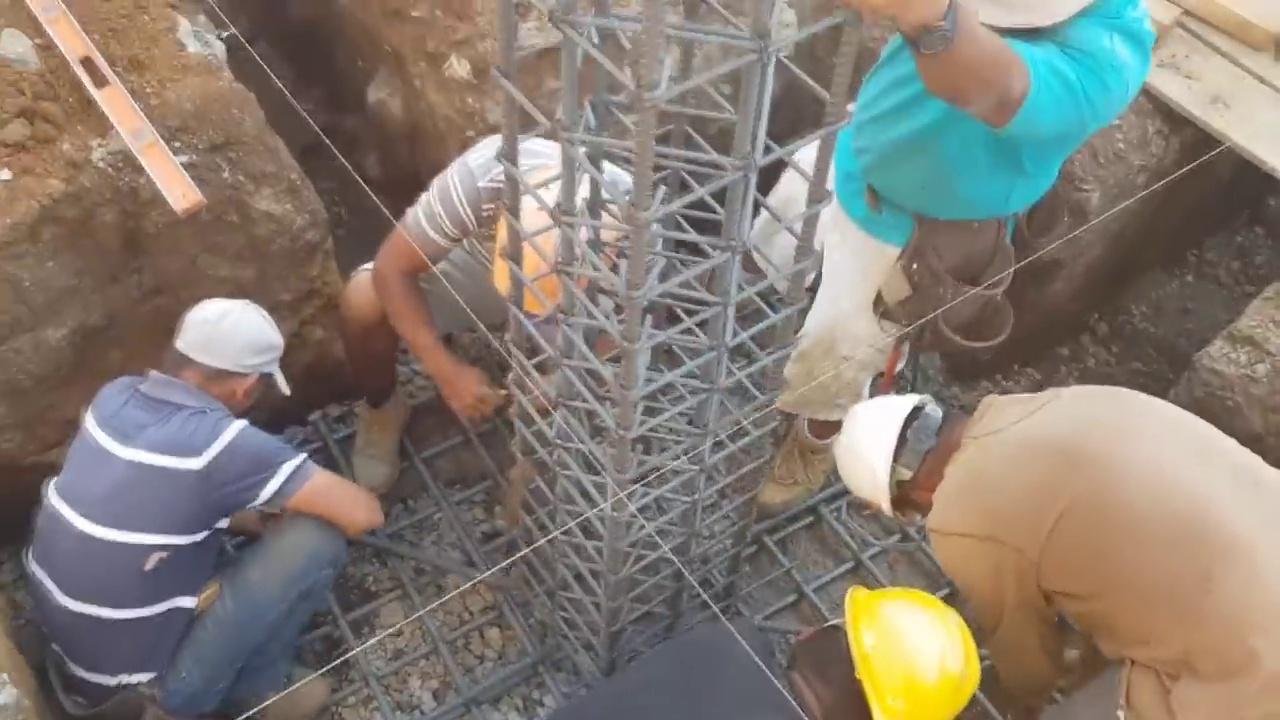helmet: (827, 593, 980, 712), (496, 184, 614, 318), (831, 392, 940, 513)
helmet-off: (153, 299, 286, 423)
helmet-on: (782, 590, 985, 719), (494, 159, 622, 314), (834, 389, 976, 526)
person: (752, 5, 1168, 513), (830, 386, 1280, 720), (20, 295, 367, 720), (332, 125, 652, 494), (547, 591, 985, 718)
